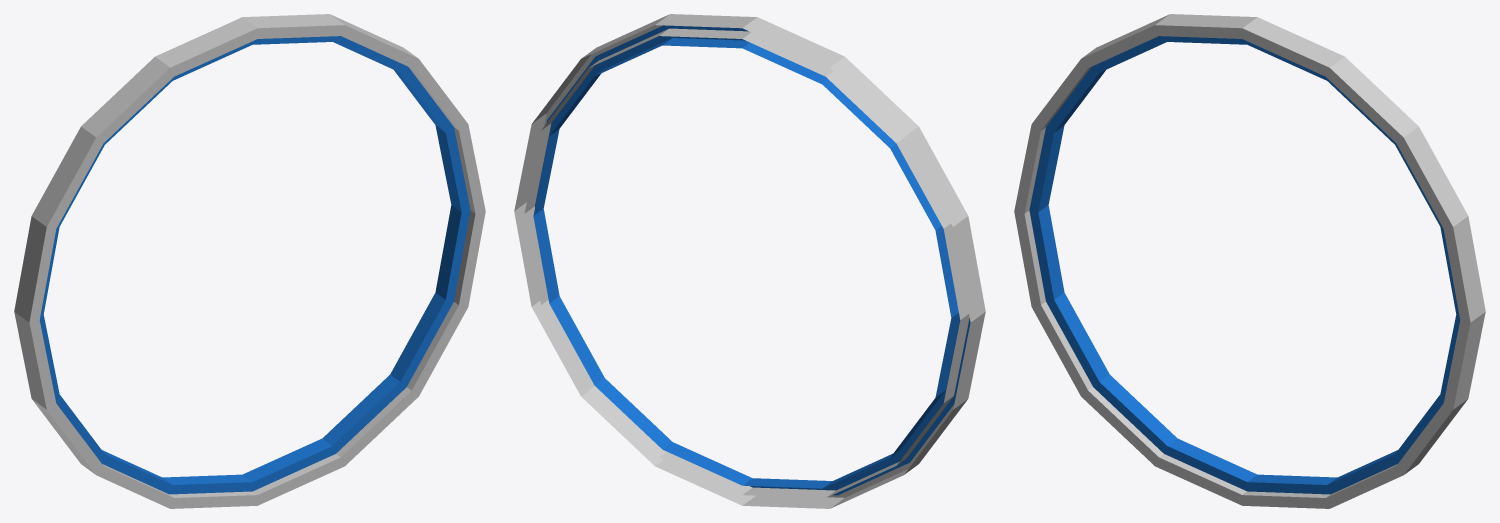
The model's file is SM_decorative_lighting.fbx.
3 renders of one model, left to right at view 1: azimuth 30°, elevation 25°; view 2: azimuth 150°, elevation 25°; view 3: azimuth 330°, elevation 25°, orthographic.
Parts seen in each view (by area): view 1: decorative_lighting; view 2: decorative_lighting; view 3: decorative_lighting.
Boxes of the visible parts, x1,y1,x2,y2 form: decorative_lighting: (14,14,485,508); decorative_lighting: (514,14,985,508); decorative_lighting: (1014,14,1485,508).
Size of the model in its own units: 200 by 200 by 11.56.
